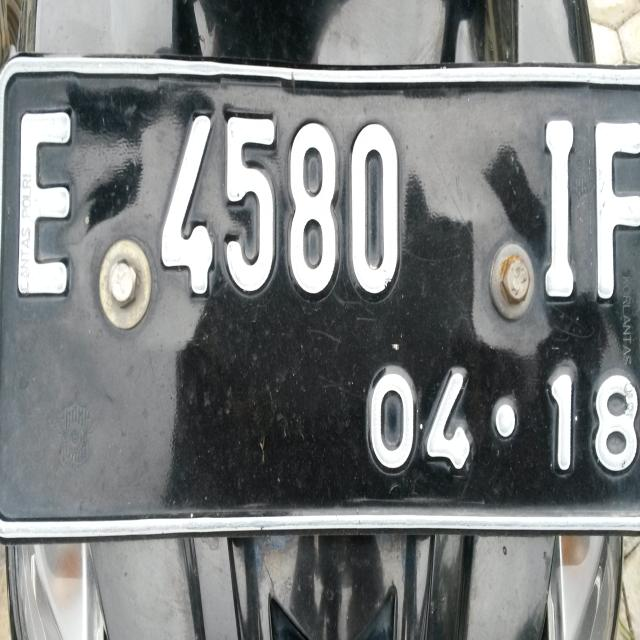plate: (0, 52, 640, 539)
